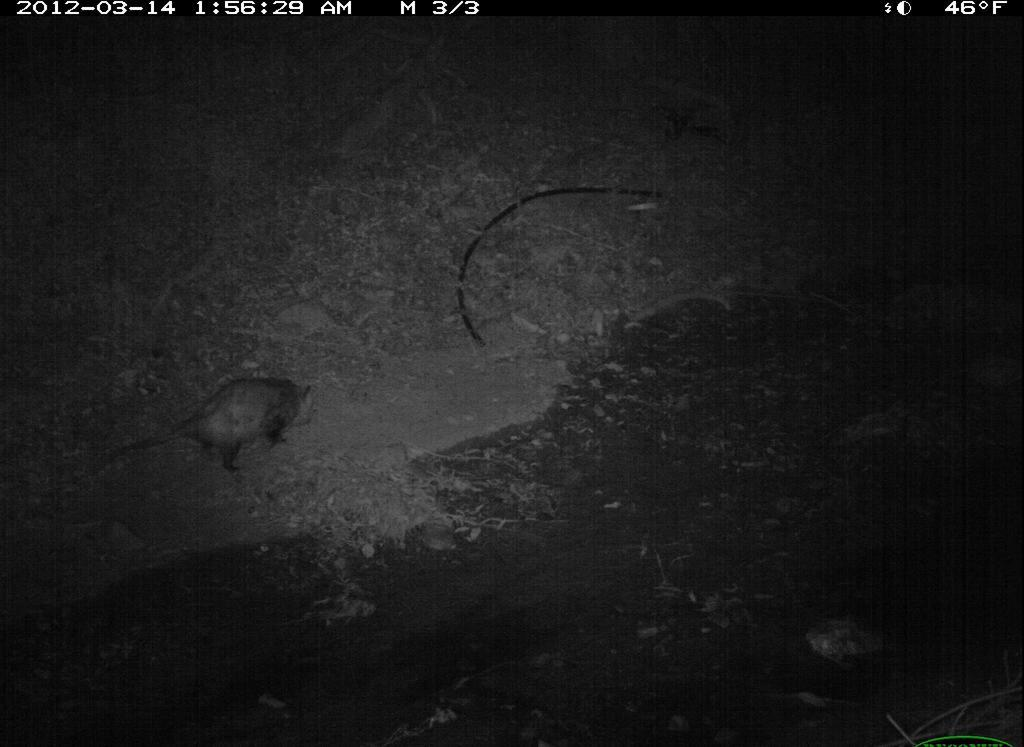opossum: (85, 363, 331, 481)
